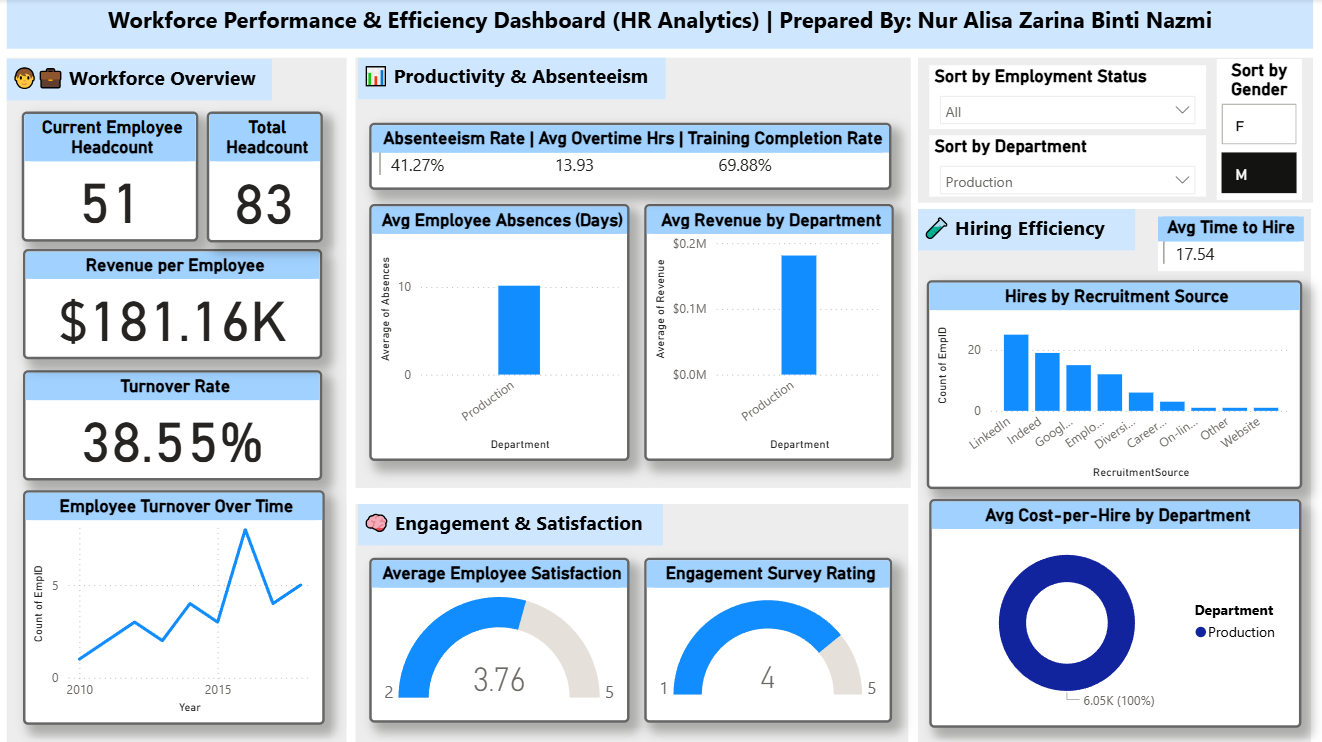

The dashboard page shown, as its layout file describes it:
{"tool":"powerbi","page":{"name":"Executive Overview","canvas":[1280,720],"ordinal":0},"visuals":[{"type":"shape","box":[887.6,57.2,381.3,139.8],"z":0},{"type":"shape","box":[345.3,487.2,533.8,233],"z":1000},{"type":"shape","box":[887.5,203.1,379.2,516.9],"z":2000},{"type":"shape","box":[345.3,57.2,536,415.2],"z":3000},{"type":"shape","box":[8.5,57.2,328.4,663.1],"z":4000},{"type":"textbox","box":[8.7,0,1261,47.8],"z":5000},{"type":"card","title":"Current Employee Headcount","fields":{"Values":["cleaned_hr_data.Headcount"]},"box":[22.9,108.6,170.1,125.5],"z":6000},{"type":"card","title":"Turnover Rate","fields":{"Values":["cleaned_hr_data.Turnover Rate"]},"box":[23.9,358.7,289.2,106.5],"z":7000},{"type":"gauge","title":"Average Employee Satisfaction","fields":{"MaxValue":["Max(cleaned_hr_data.EmpSatisfaction)1"],"MinValue":["Min(cleaned_hr_data.EmpSatisfaction)2"],"Y":["Avg(cleaned_hr_data.EmpSatisfaction)"]},"box":[358.3,539.9,251.5,159.5],"z":8000},{"type":"gauge","title":"Engagement Survey Rating","fields":{"MaxValue":["Max(cleaned_hr_data.EngagementSurvey)2"],"MinValue":["Min(cleaned_hr_data.EngagementSurvey)1"],"Y":["Avg(cleaned_hr_data.EngagementSurvey)"]},"box":[623.3,539.9,239.3,159.5],"z":9000},{"type":"columnChart","title":"Avg Employee Absences (Days)","fields":{"Category":["cleaned_hr_data.Department"],"Y":["Avg(cleaned_hr_data.Absences)"]},"box":[358.3,197.5,251.5,247.9],"z":10000},{"type":"columnChart","title":"Hires by Recruitment Source","fields":{"Category":["cleaned_hr_data.RecruitmentSource"],"Y":["CountNonNull(cleaned_hr_data.EmpID)"]},"box":[895.9,270.9,362.3,201.3],"z":11000},{"type":"donutChart","title":"Avg Cost-per-Hire by Department","fields":{"Category":["cleaned_hr_data.Department"],"Y":["Avg(cleaned_hr_data.HiringCost)"]},"box":[898.8,482.6,359.5,220.8],"z":12000},{"type":"columnChart","title":"Avg Revenue by Department","fields":{"Category":["cleaned_hr_data.Department"],"Y":["Avg(cleaned_hr_data.Revenue)"]},"box":[623.3,197.5,240.5,247.9],"z":13000},{"type":"card","title":"Revenue per Employee","fields":{"Values":["Avg(cleaned_hr_data.Revenue)"]},"box":[23.9,241.3,289.2,106.5],"z":14000},{"type":"lineChart","title":"Employee Turnover Over Time","fields":{"Category":["cleaned_hr_data.DateofTermination.Variation.Date Hierarchy.Year","cleaned_hr_data.DateofTermination.Variation.Date Hierarchy.Month"],"Y":["CountNonNull(cleaned_hr_data.EmpID)"]},"box":[23.9,474,291.3,226.1],"z":15000},{"type":"multiRowCard","title":"Absenteeism Rate | Avg Overtime Hrs | Training Completion Rate","fields":{"Values":["cleaned_hr_data.Absenteeism Rate","Avg(cleaned_hr_data.OvertimeHours)","cleaned_hr_data.Training Completion Rate"]},"box":[358.3,119,504.3,65],"z":16000},{"type":"textbox","box":[8.8,57.5,256.2,40],"z":17000},{"type":"textbox","box":[347.4,57.2,296.6,40.3],"z":18000},{"type":"textbox","box":[887.5,203.1,209.7,40.3],"z":19000},{"type":"multiRowCard","title":"Avg Time to Hire","fields":{"Values":["cleaned_hr_data.Avg Time to Hire"]},"box":[1119,209.8,141.1,52.8],"z":20000},{"type":"textbox","box":[347.4,487.2,294.5,40.3],"z":21000},{"type":"slicer","title":"Sort by Employment Status","fields":{"Values":["cleaned_hr_data.EmploymentStatus"]},"box":[898.2,63.6,266.9,61.4],"z":22000},{"type":"slicer","title":"Sort by Department","fields":{"Values":["cleaned_hr_data.Department"]},"box":[898.2,131.3,266.9,59.3],"z":23000},{"type":"advancedSlicerVisual","title":"Sort by Gender","fields":{"Values":["cleaned_hr_data.Sex"]},"box":[1176.3,57.9,82,136.3],"z":24000},{"type":"card","title":"Total Headcount","fields":{"Values":["CountNonNull(cleaned_hr_data.EmpID)"]},"box":[201.5,108.6,112.2,126.7],"z":25000}]}

Visuals, with their boxes in screenshot pixels (x1, y1, x2, y2), scaled from the page's 1280x720 canvas onto the 1322x742 screenshot:
shape: box=[917, 59, 1311, 203]
shape: box=[357, 502, 908, 741]
shape: box=[917, 209, 1308, 741]
shape: box=[357, 59, 910, 487]
shape: box=[9, 59, 348, 741]
textbox: box=[9, 0, 1311, 49]
"Current Employee Headcount" card: box=[24, 112, 199, 241]
"Turnover Rate" card: box=[25, 370, 323, 479]
"Average Employee Satisfaction" gauge: box=[370, 556, 630, 721]
"Engagement Survey Rating" gauge: box=[644, 556, 891, 721]
"Avg Employee Absences (Days)" columnChart: box=[370, 204, 630, 459]
"Hires by Recruitment Source" columnChart: box=[925, 279, 1299, 487]
"Avg Cost-per-Hire by Department" donutChart: box=[928, 497, 1300, 725]
"Avg Revenue by Department" columnChart: box=[644, 204, 892, 459]
"Revenue per Employee" card: box=[25, 249, 323, 358]
"Employee Turnover Over Time" lineChart: box=[25, 488, 326, 721]
"Absenteeism Rate | Avg Overtime Hrs | Training Completion Rate" multiRowCard: box=[370, 123, 891, 190]
textbox: box=[9, 59, 274, 100]
textbox: box=[359, 59, 665, 100]
textbox: box=[917, 209, 1133, 251]
"Avg Time to Hire" multiRowCard: box=[1156, 216, 1301, 271]
textbox: box=[359, 502, 663, 544]
"Sort by Employment Status" slicer: box=[928, 66, 1203, 129]
"Sort by Department" slicer: box=[928, 135, 1203, 196]
"Sort by Gender" advancedSlicerVisual: box=[1215, 60, 1300, 200]
"Total Headcount" card: box=[208, 112, 324, 242]
